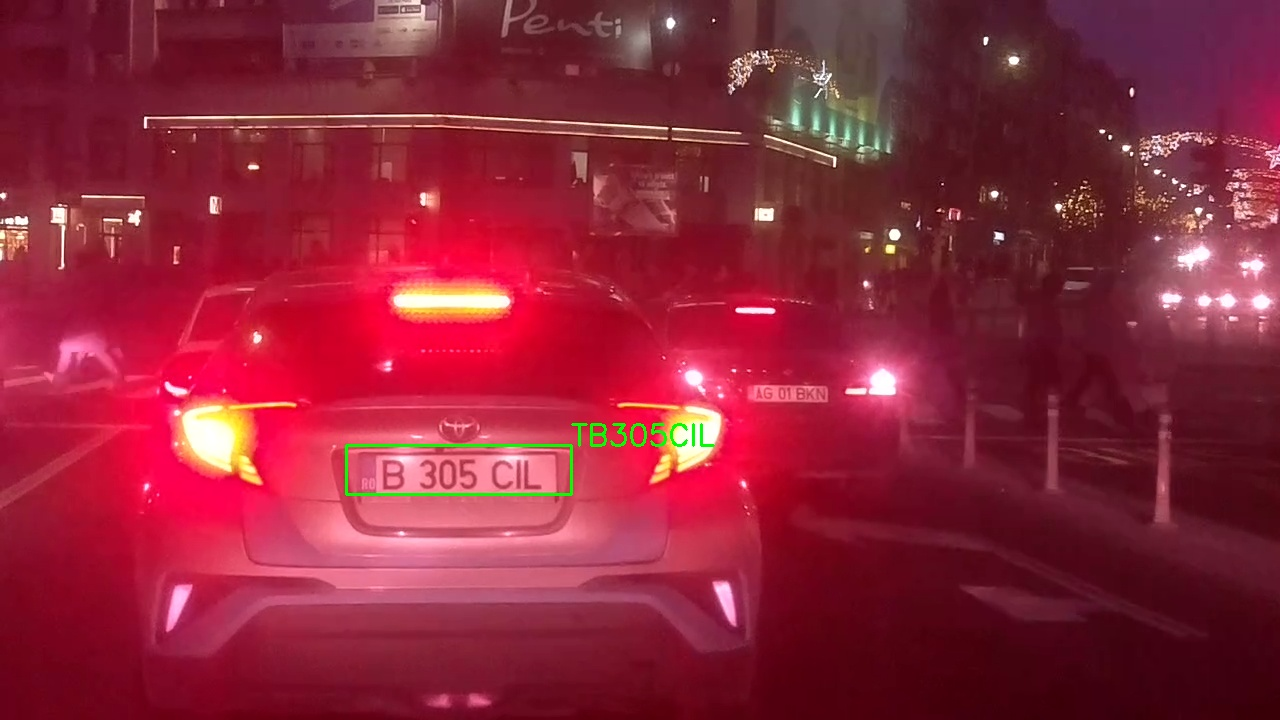license-plate: (346, 445, 572, 495)
